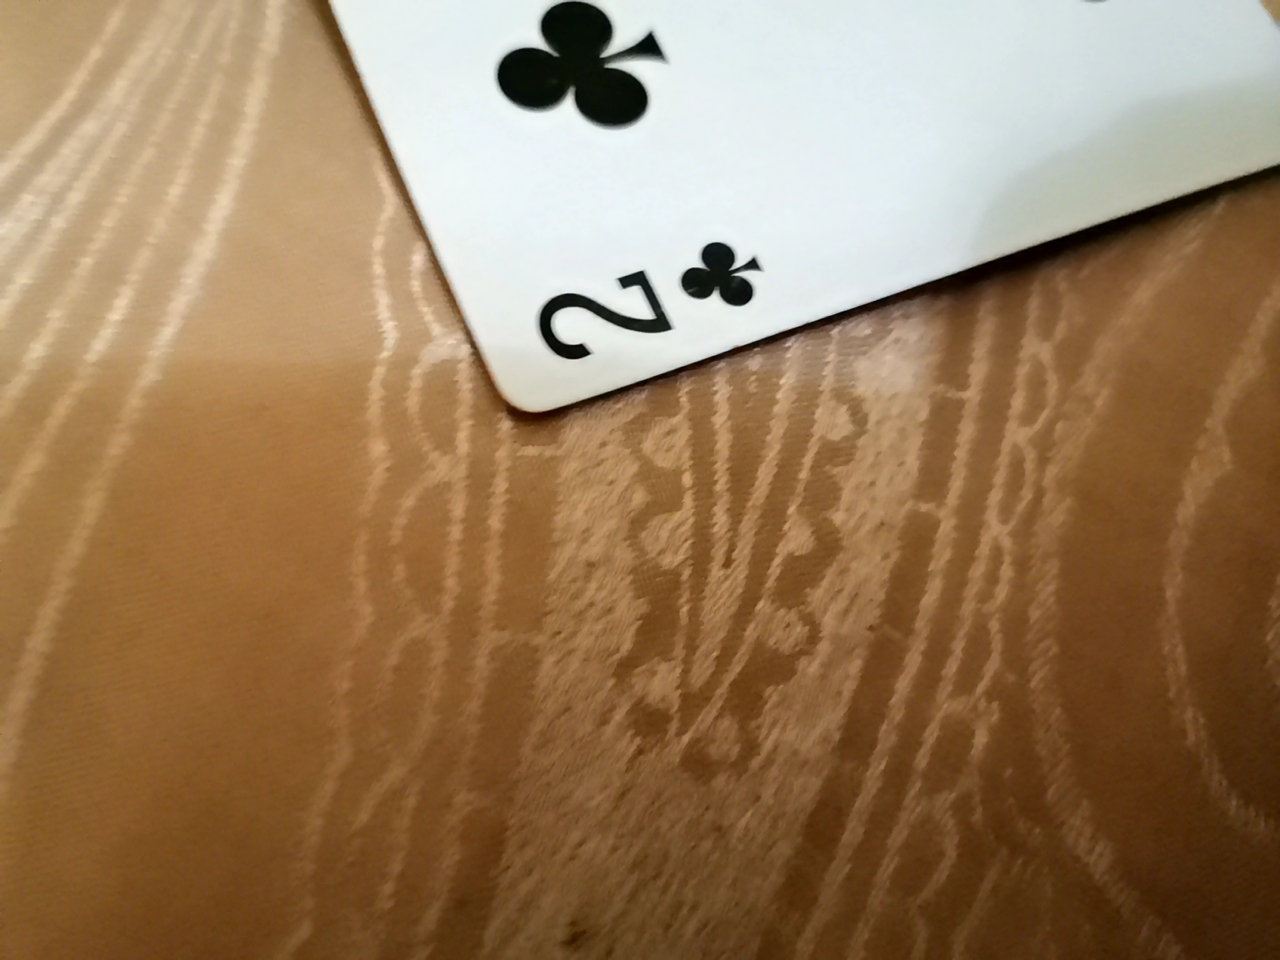mh 2: (243, 0, 1270, 449)
